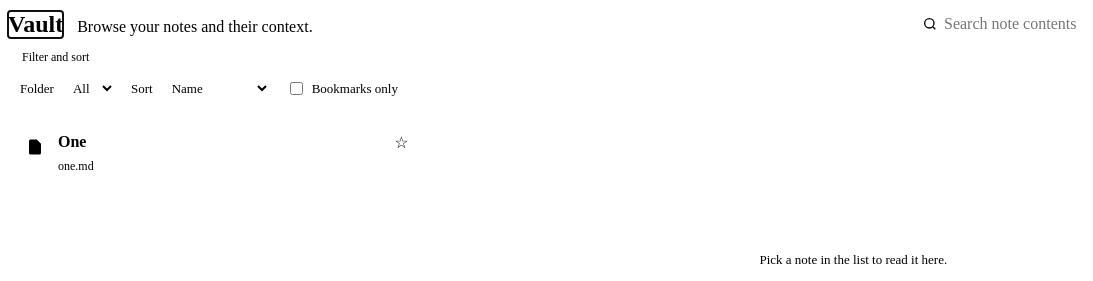
Test case: VaultBrowser › rejects an invalid note ref mismatch
The image size is (1093, 281).
Click the button "One".
click(72, 142)  # box [58,130,380,153]
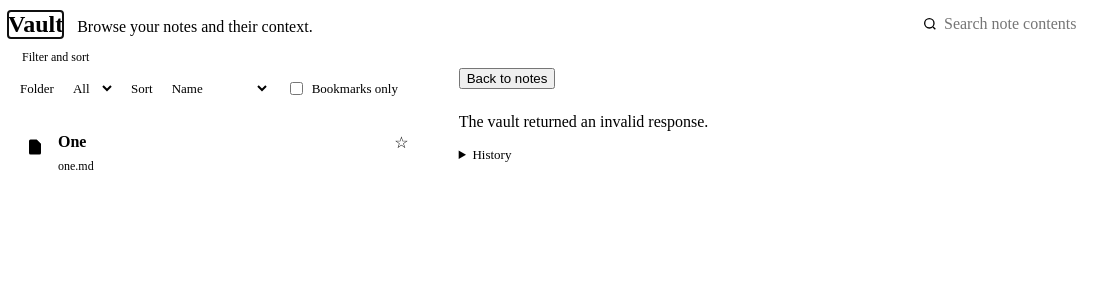
Expected: the message reads "The vault returned an invalid response.", [459,113,708,130]
